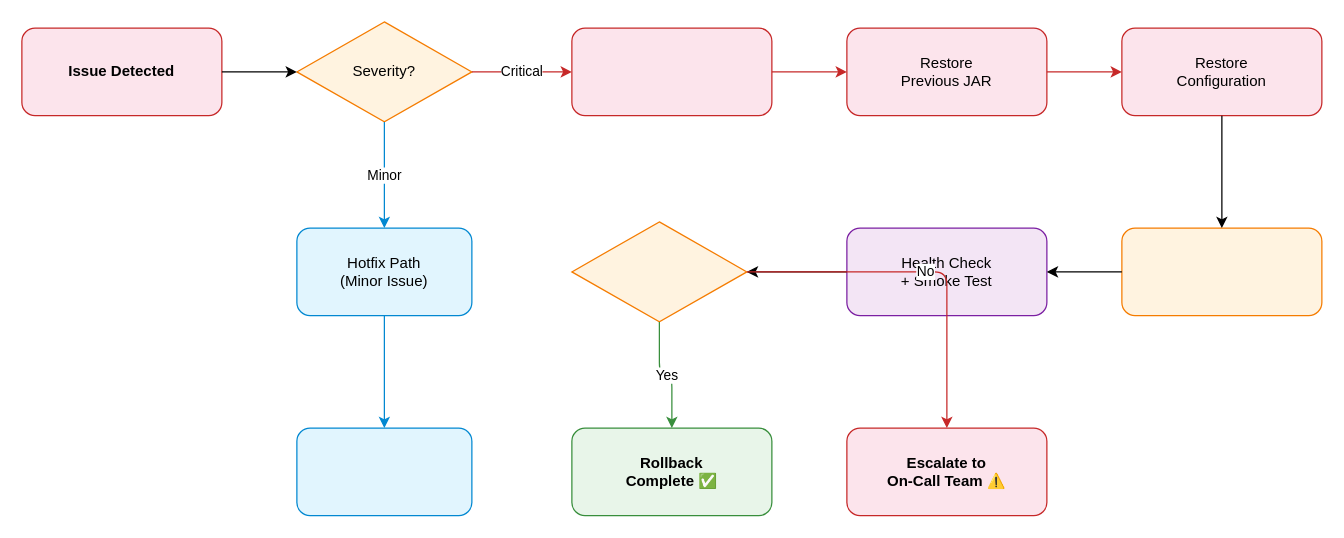
Image size: 1344x538. Some labels were removed from this diagram. The centre of each missing label's shape, as x and y in pixels:
Investigate & Apply Fix: the point at 384,471
Rollback Success?: the point at 659,271
Start Previous Version: the point at 1221,271
Stop Service: the point at 671,71
